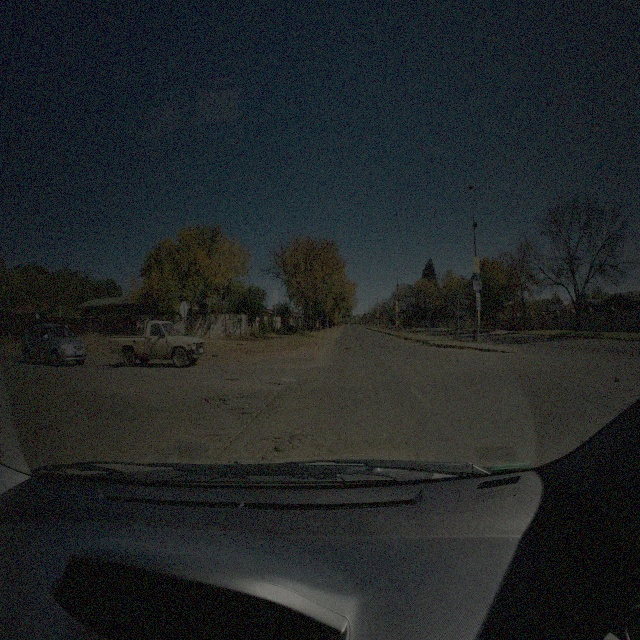pothole: (252, 433, 281, 462), (201, 393, 230, 410), (237, 410, 259, 429), (199, 432, 223, 448), (237, 393, 256, 401), (271, 380, 283, 387), (226, 376, 239, 382)
